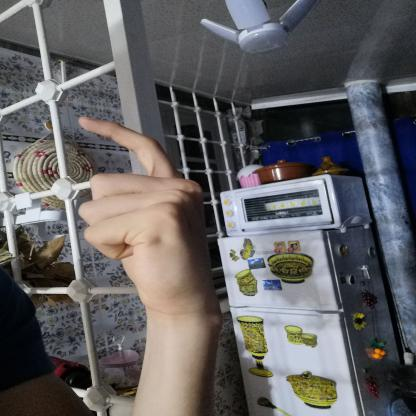RAA: (65, 106, 226, 322)
